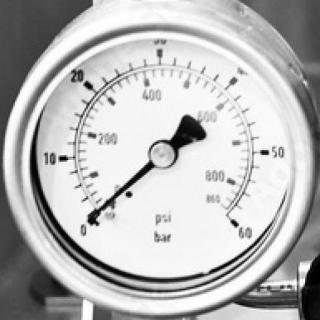gauge: (0, 0, 320, 316), (74, 204, 111, 236), (146, 140, 178, 170), (222, 210, 250, 238), (80, 206, 102, 228)
